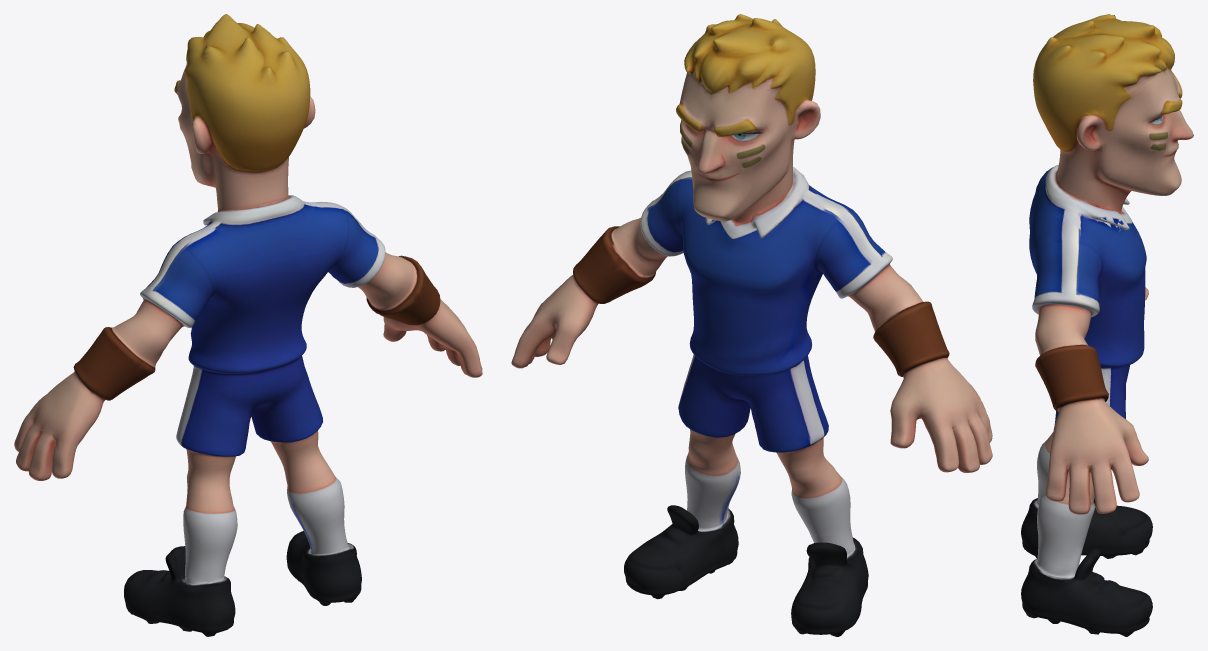
File: cazador.glb
3 renders of one model, left to right at view 1: azimuth 30°, elevation 25°; view 2: azimuth 150°, elevation 25°; view 3: azimuth 270°, elevation 25°, orthographic. The views are drawn at different scales.
Parts seen in each view (by area): view 1: char; view 2: char; view 3: char.
Part boxes in pixels (x1,y1,x2,y2): char: (14,14,482,636); char: (511,14,992,636); char: (1021,14,1193,636).
Size of the model in its own units: 1.41 by 1.7 by 0.4704.
Materials: 1 (1 with a texture image).
